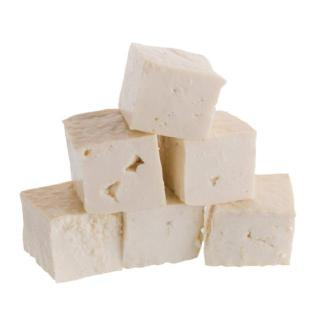Tahu: (14, 28, 303, 293)
